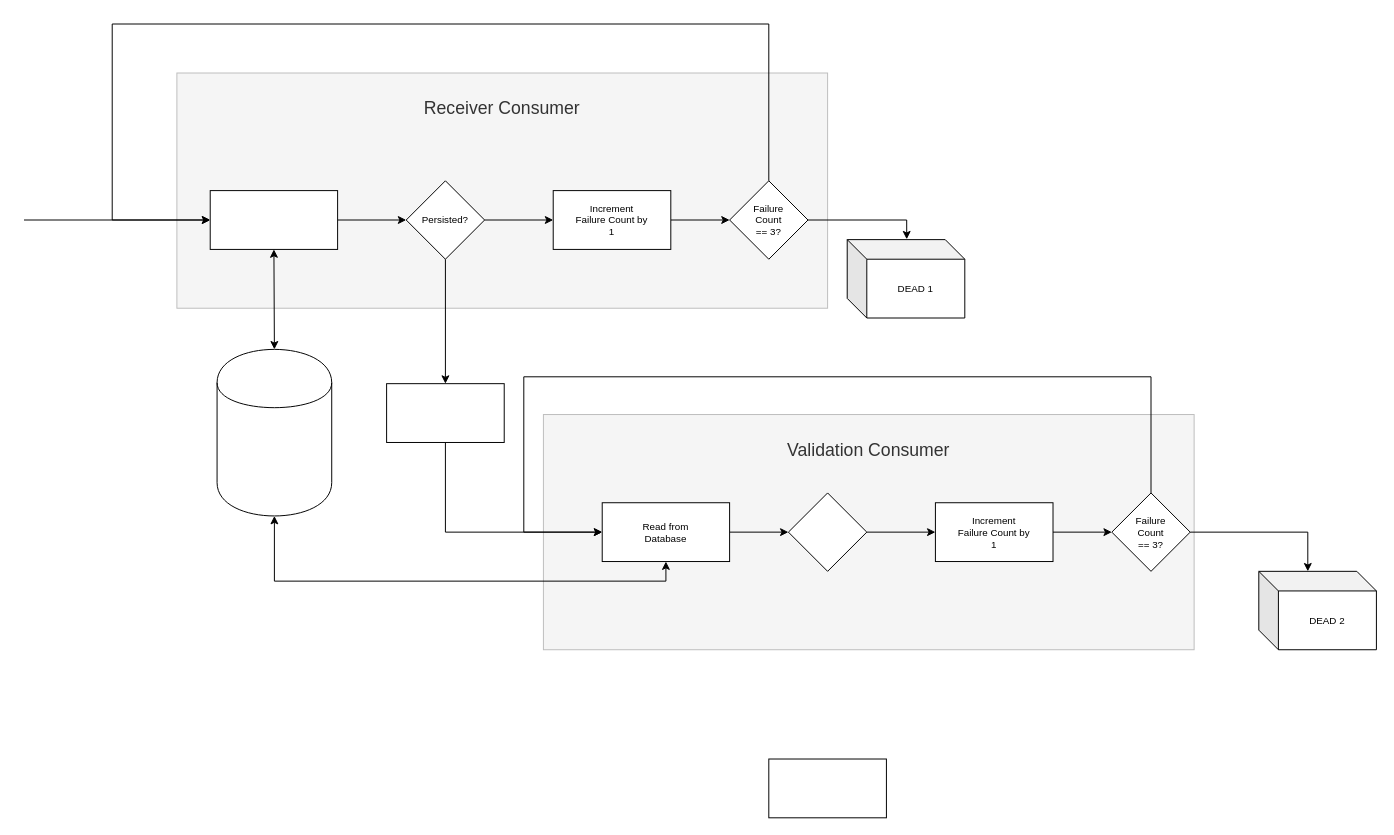
This 1394x835 diagram has some shape labels left out. The centre of each missing label's shape, as x and y in pixels:
DB: the point at 274,432
URL(s) and Message: the point at 827,788
UUID: the point at 445,412
Valid URL and Body?: the point at 827,531
Write to Database: the point at 273,219
